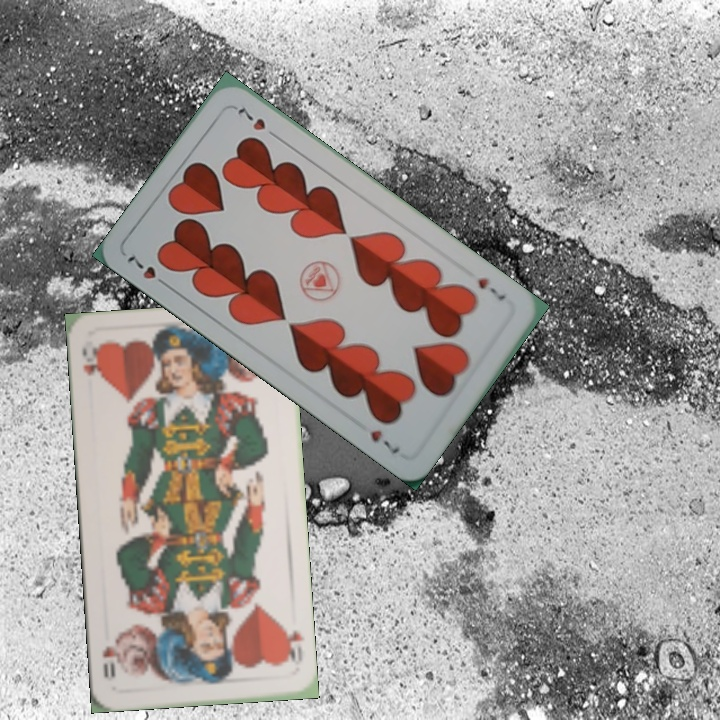H7: (123, 251, 173, 291), (473, 273, 508, 304)
HO: (279, 621, 307, 668), (78, 338, 103, 382)
